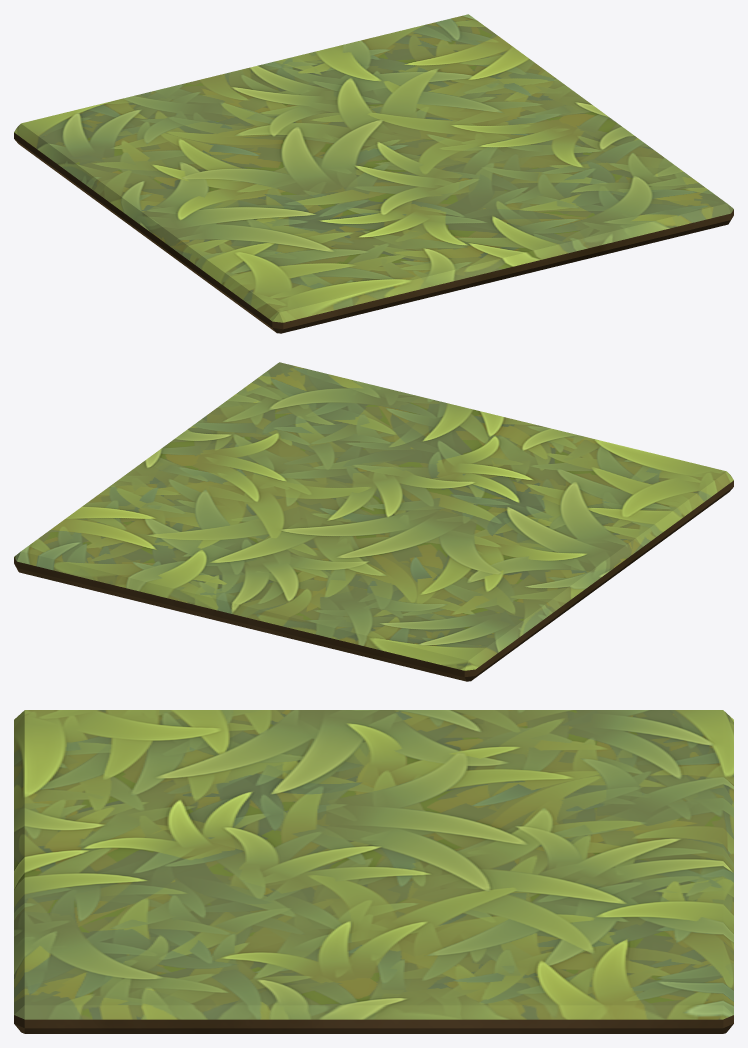
Rendered from cube_terrains_floor_1x1.gltf.
The picture shows the model from 3 angles, top to bottom: view 1: azimuth 30°, elevation 25°; view 2: azimuth 150°, elevation 25°; view 3: azimuth 270°, elevation 25°; orthographic projection. The views are drawn at different scales.
Visible parts, largest first — view 1: Grass.Dirt.Floor.001; view 2: Grass.Dirt.Floor.001; view 3: Grass.Dirt.Floor.001.
Part boxes in pixels (left/top/right/bottom): Grass.Dirt.Floor.001: left=14, top=14, right=733, bottom=333; Grass.Dirt.Floor.001: left=14, top=362, right=733, bottom=681; Grass.Dirt.Floor.001: left=14, top=710, right=733, bottom=1033.
Size of the model in its own units: 10 by 0.4229 by 10.
